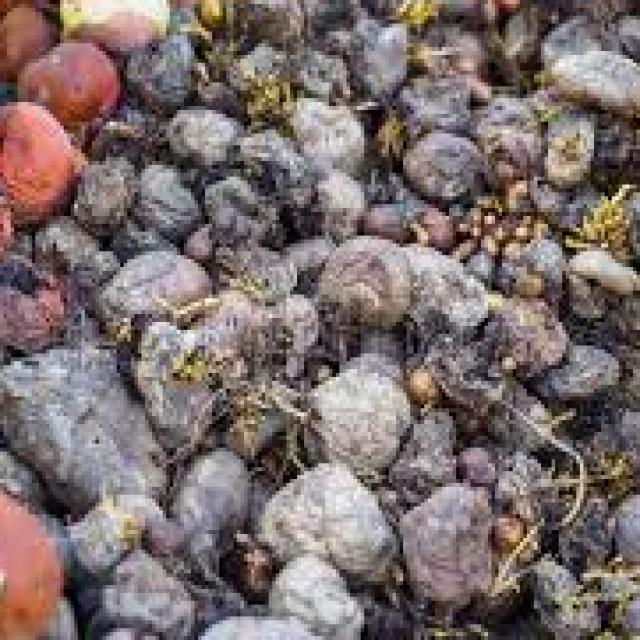organic: (117, 60, 632, 622)
